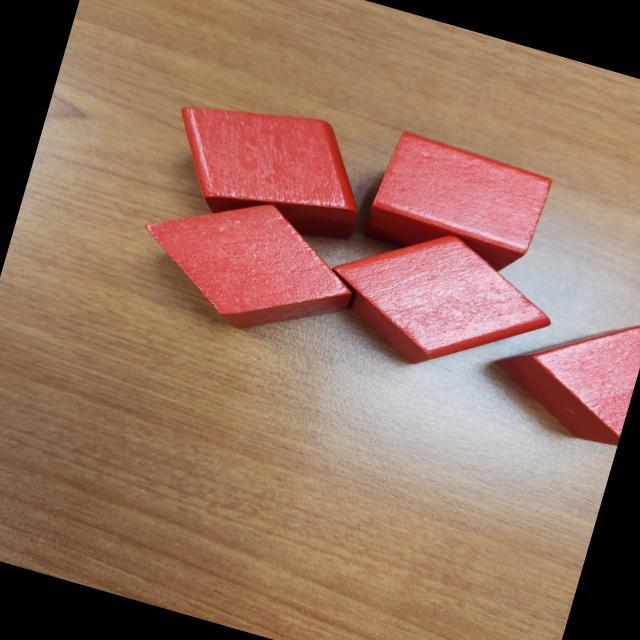red: (312, 204, 570, 400), (119, 170, 375, 359), (152, 79, 382, 251), (356, 123, 556, 280), (486, 281, 640, 453)
